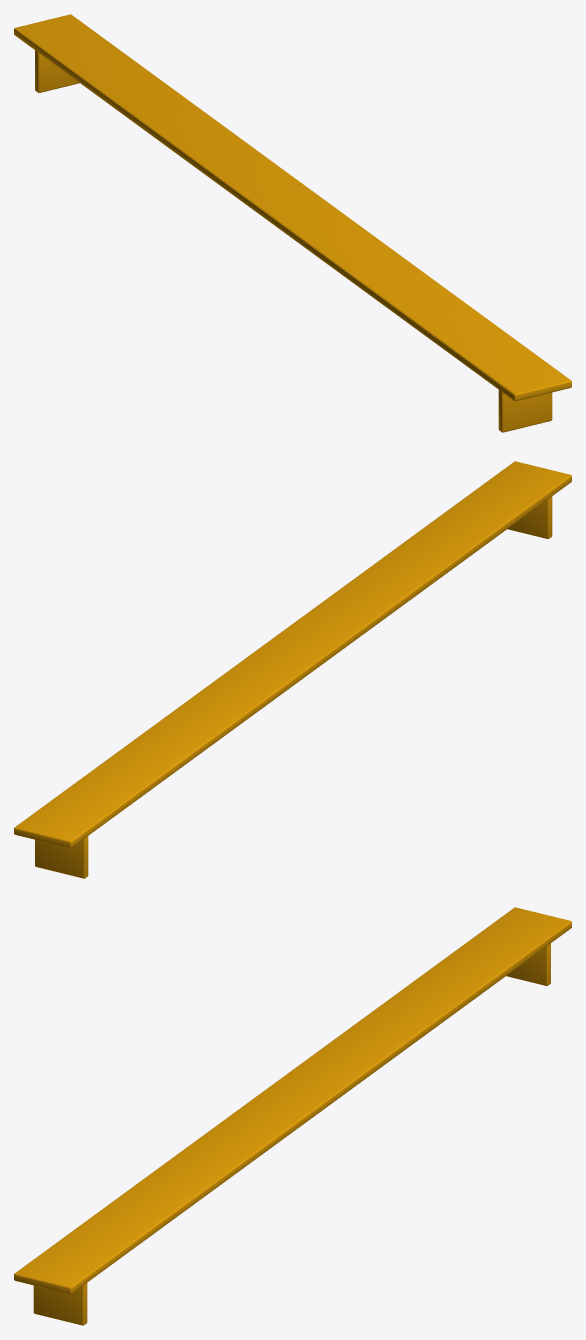
The model's file is banco.fbx.
The picture shows the model from 3 angles, top to bottom: view 1: azimuth 30°, elevation 25°; view 2: azimuth 150°, elevation 25°; view 3: azimuth 330°, elevation 25°; orthographic projection.
Parts seen in each view (by area): view 1: gymnasium.809, gymnasium.811, gymnasium.810; view 2: gymnasium.809, gymnasium.810, gymnasium.811; view 3: gymnasium.809, gymnasium.811, gymnasium.810.
Part boxes in pixels (bbox=[...]): gymnasium.809: bbox=[14, 14, 571, 401]; gymnasium.811: bbox=[498, 390, 552, 432]; gymnasium.810: bbox=[35, 50, 79, 92]; gymnasium.809: bbox=[14, 461, 571, 848]; gymnasium.810: bbox=[35, 836, 88, 878]; gymnasium.811: bbox=[507, 496, 552, 538]; gymnasium.809: bbox=[14, 907, 571, 1294]; gymnasium.811: bbox=[33, 1283, 87, 1325]; gymnasium.810: bbox=[506, 943, 550, 985].
Bounding box in the file's own units: 40 × 33.97 × 600.
